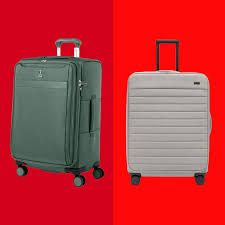suitcase: (8, 37, 104, 189), (124, 38, 213, 187)
